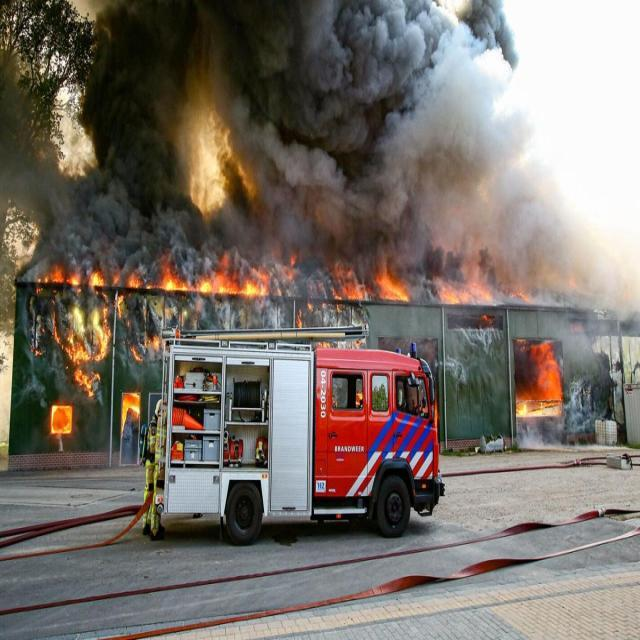Fire: (38, 246, 270, 296), (296, 270, 368, 350), (54, 307, 111, 402), (189, 110, 232, 212), (114, 293, 158, 362), (441, 286, 494, 306), (377, 276, 411, 302), (122, 392, 140, 435), (50, 406, 72, 434), (515, 402, 543, 414)
Smoke: (8, 0, 640, 426)
